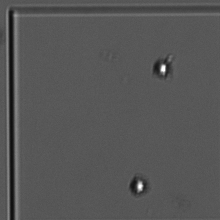Living Cell: (125, 169, 155, 199), (148, 55, 177, 84)
